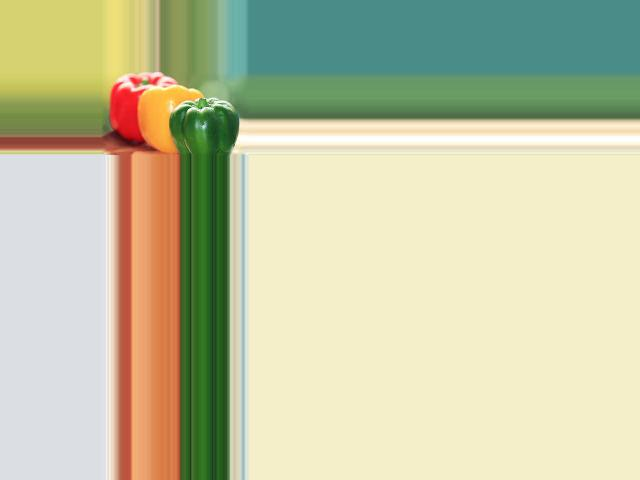bell_pepper: (110, 72, 177, 151)
